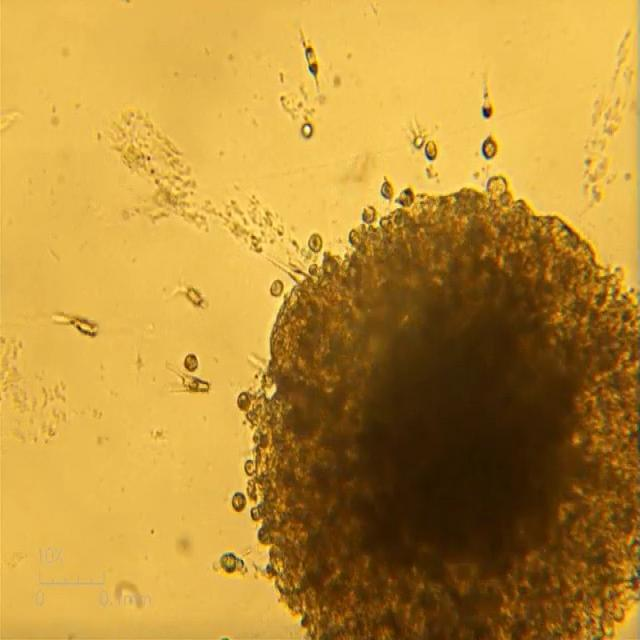cell: (166, 363, 212, 393), (50, 313, 99, 337), (219, 552, 246, 574), (304, 43, 319, 78), (480, 139, 500, 163), (182, 352, 200, 373), (188, 286, 204, 307), (423, 141, 438, 162), (229, 493, 246, 510), (309, 233, 324, 252), (482, 97, 494, 120), (268, 280, 286, 295), (380, 179, 394, 198), (300, 122, 314, 139), (412, 132, 426, 146)
tumor_mass: (234, 176, 640, 640)
